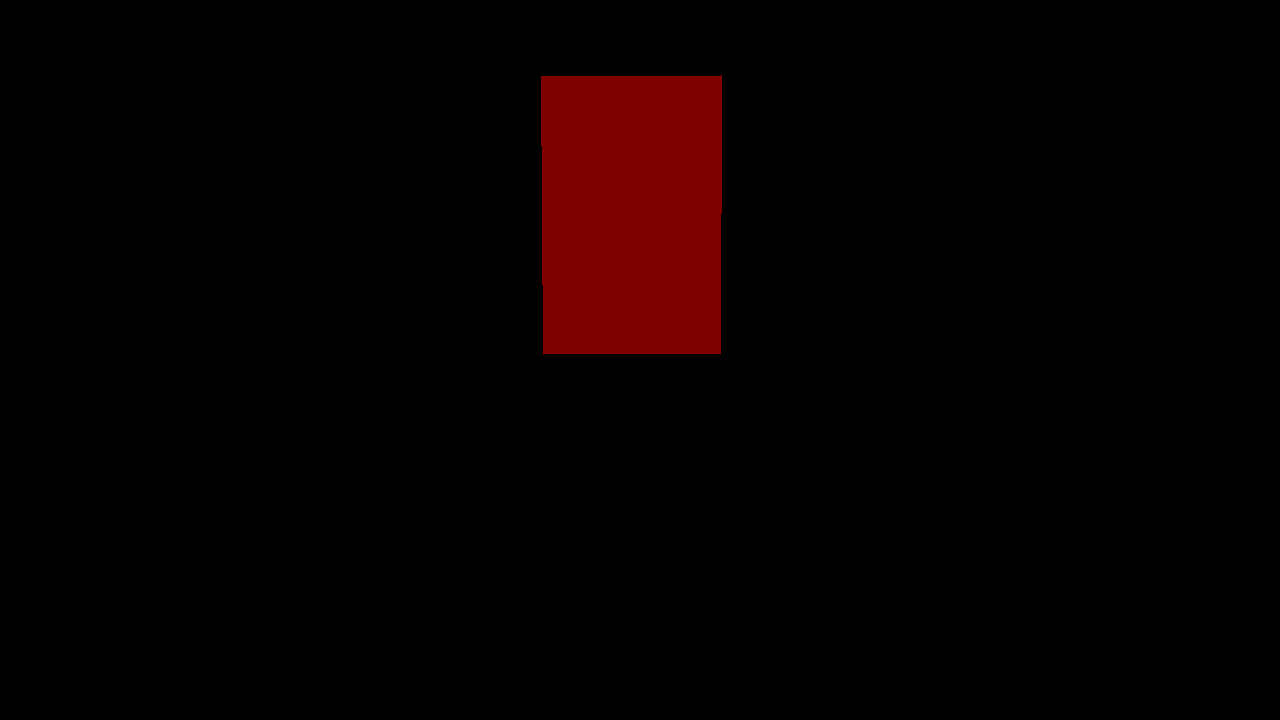door: (541, 75, 721, 354)
